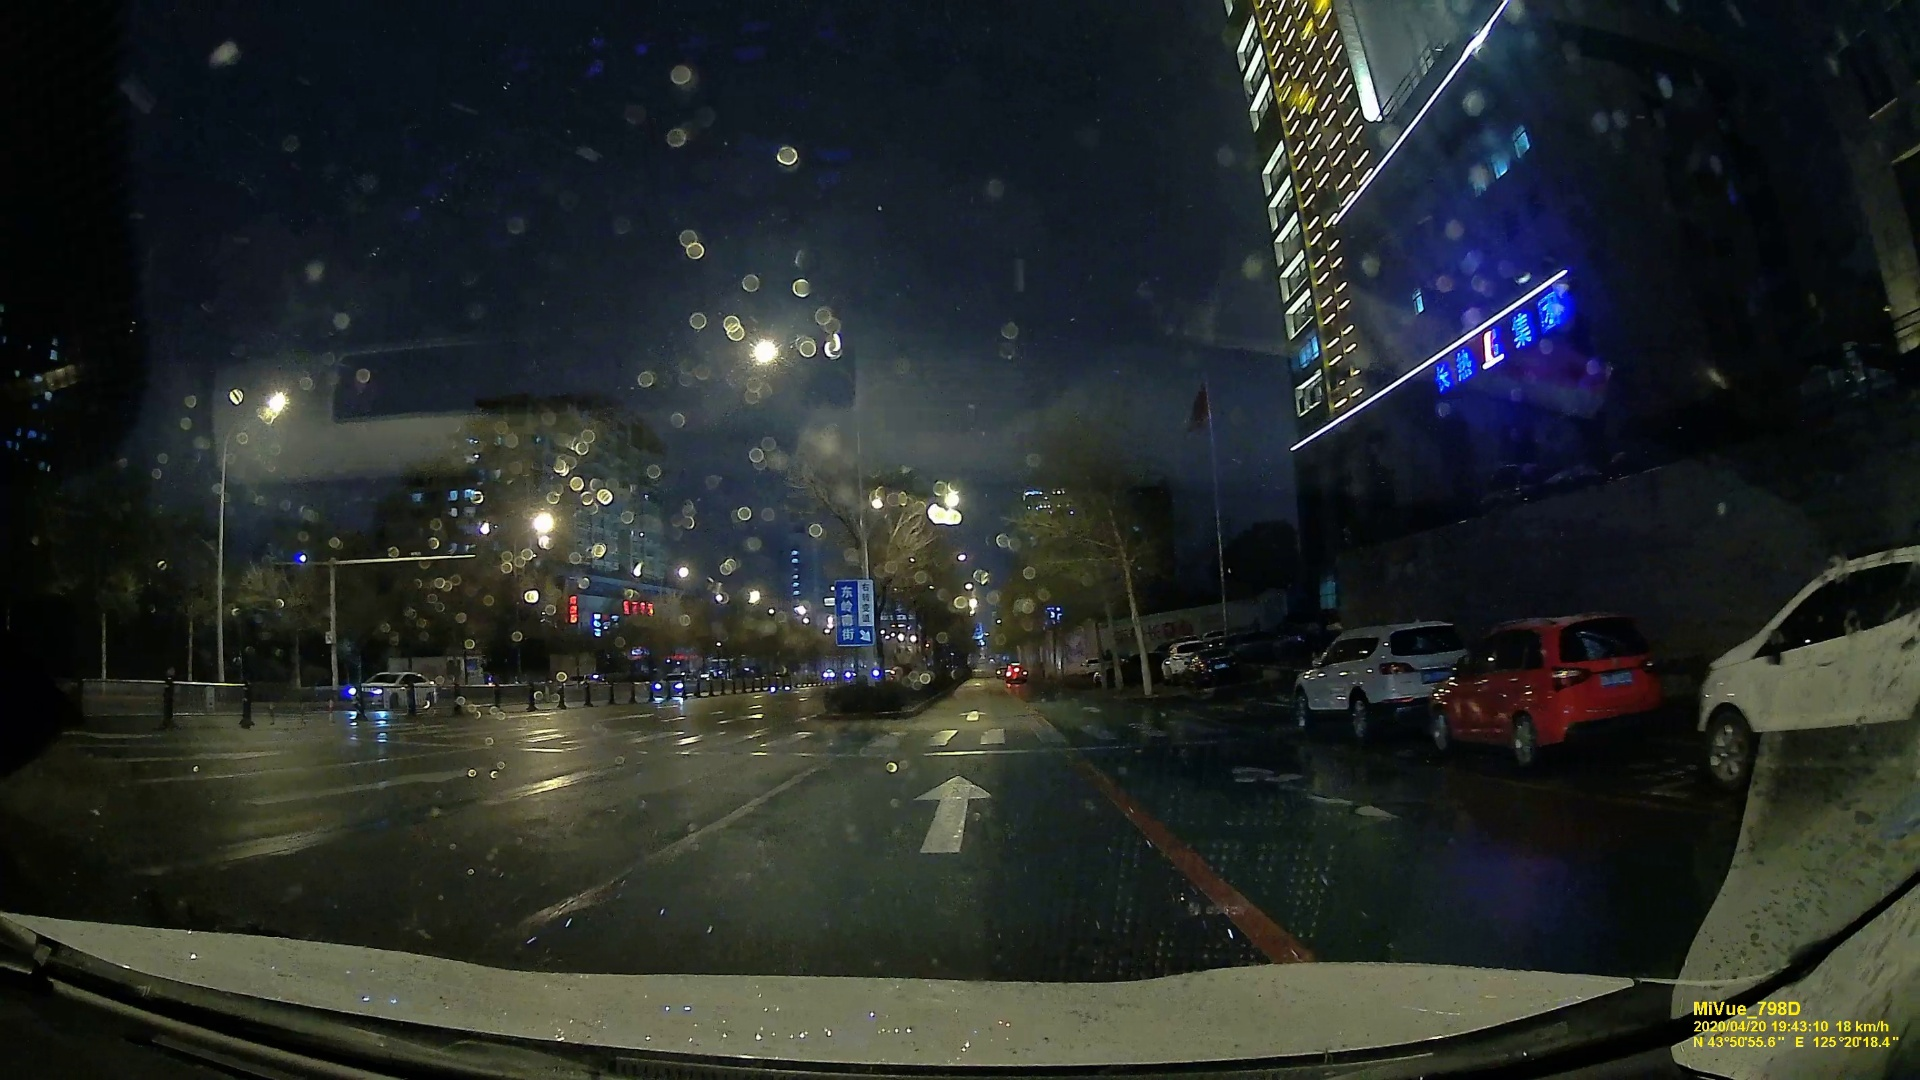traffic_sign: (833, 578, 876, 647)
vehicle: (1443, 609, 1676, 770), (1294, 620, 1472, 724), (345, 673, 436, 712), (653, 673, 698, 696), (1005, 665, 1029, 683)
